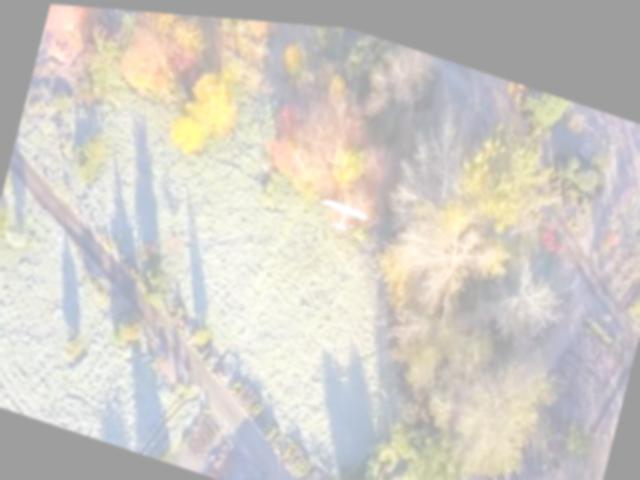uav: (311, 178, 380, 239)
